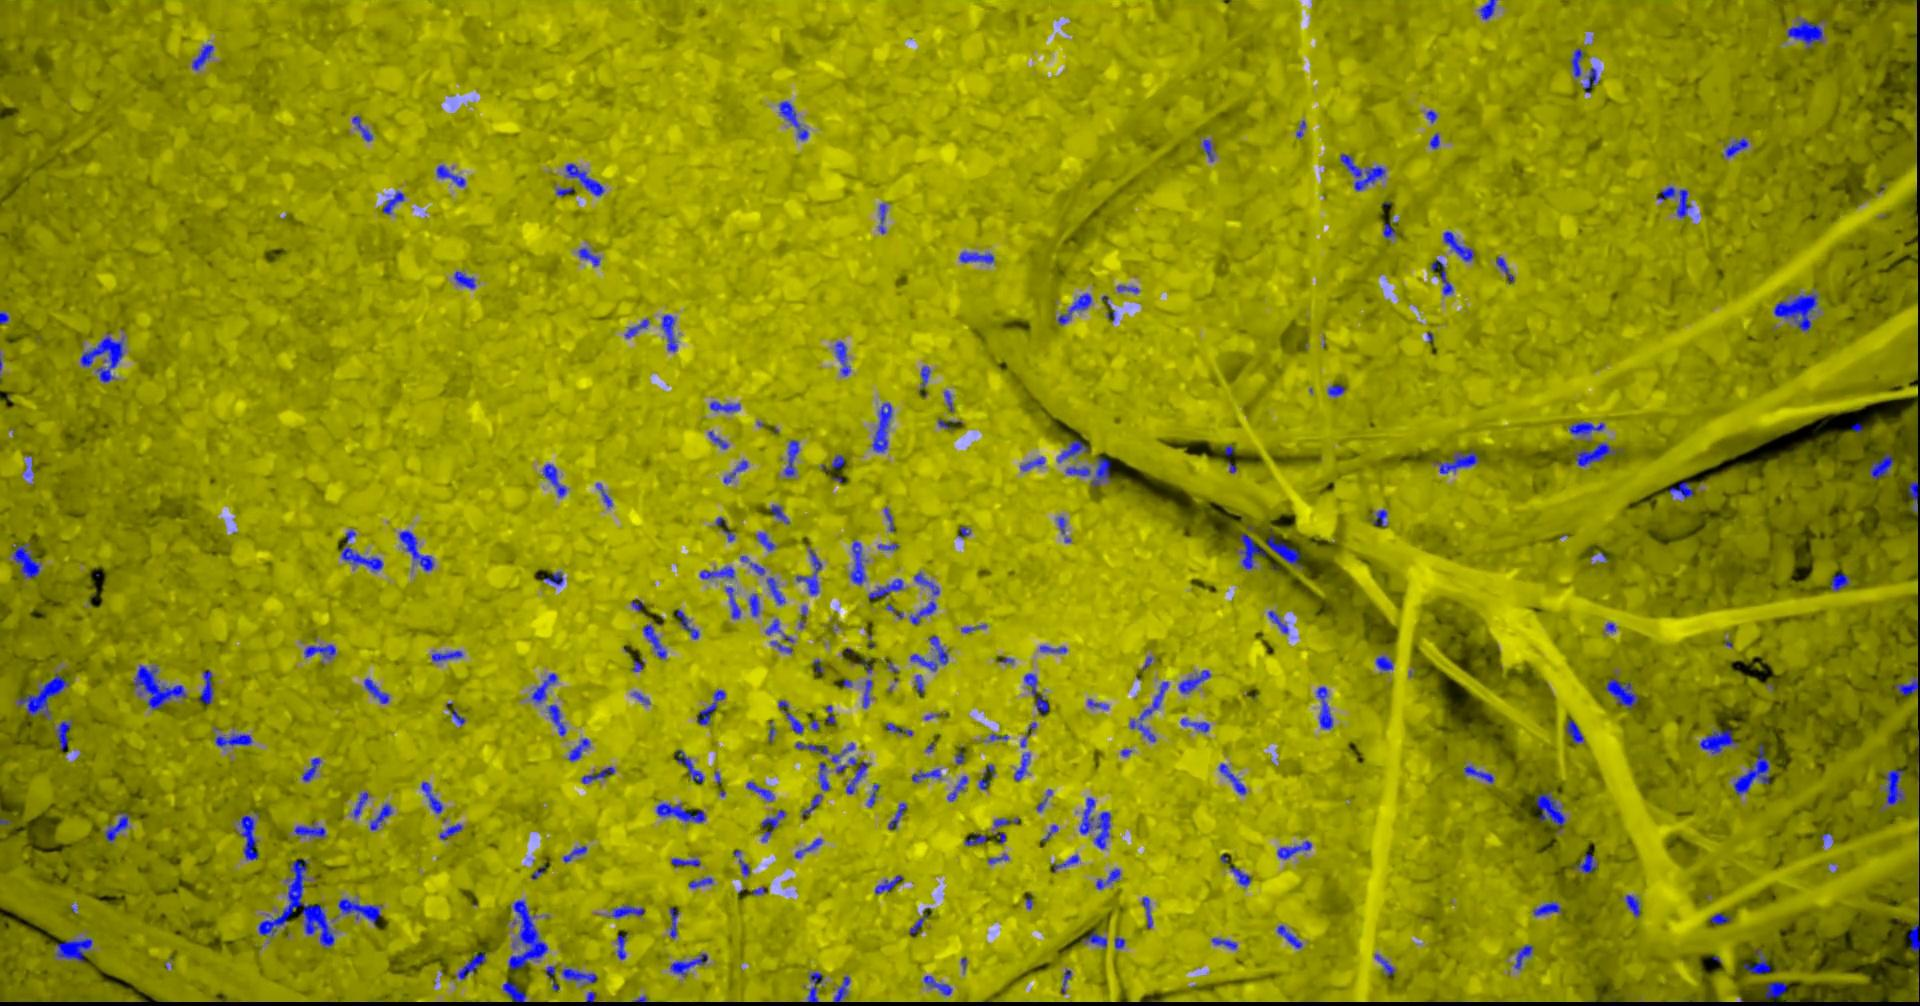ant: (1129, 681, 1168, 741), (133, 664, 185, 709), (17, 674, 69, 716), (80, 335, 123, 382), (1733, 743, 1769, 795), (342, 528, 382, 572), (1340, 152, 1385, 191), (1773, 293, 1817, 332), (1079, 796, 1110, 848), (399, 530, 433, 570), (910, 635, 947, 671), (565, 163, 603, 196), (337, 898, 381, 926), (795, 549, 822, 594), (1265, 535, 1302, 567), (1572, 442, 1620, 466), (1535, 791, 1564, 831), (1656, 185, 1691, 217), (778, 100, 808, 138), (1057, 292, 1091, 324), (1432, 450, 1478, 473), (11, 542, 41, 578), (696, 688, 725, 724), (1785, 19, 1822, 47), (655, 801, 705, 822), (1604, 678, 1638, 708), (872, 401, 891, 452), (1443, 231, 1474, 260), (676, 749, 703, 782), (55, 937, 91, 962), (237, 815, 258, 859), (1239, 533, 1265, 568), (669, 953, 707, 976), (1699, 729, 1735, 753), (1218, 763, 1246, 794), (530, 673, 557, 702), (643, 622, 665, 658), (844, 757, 867, 793), (759, 809, 785, 841), (778, 700, 803, 733), (1430, 259, 1453, 293), (457, 951, 485, 979), (542, 464, 566, 495), (1178, 669, 1210, 694), (830, 742, 855, 774), (1057, 439, 1090, 462), (869, 578, 902, 601), (104, 810, 128, 841), (1884, 768, 1905, 804), (1742, 949, 1770, 974), (676, 608, 698, 639), (1316, 686, 1332, 728), (1868, 452, 1893, 479), (850, 541, 865, 584), (363, 677, 389, 702), (422, 781, 442, 813), (909, 600, 936, 624), (436, 164, 465, 185), (1277, 840, 1310, 859), (1276, 923, 1302, 948), (190, 43, 213, 70), (1090, 457, 1110, 486), (723, 459, 747, 483), (913, 572, 938, 594), (370, 803, 391, 829), (908, 907, 930, 934), (745, 781, 773, 801), (547, 704, 565, 735), (662, 314, 677, 351), (350, 116, 372, 141), (724, 586, 740, 619), (582, 766, 615, 782), (1463, 765, 1493, 782), (794, 838, 822, 857), (923, 976, 951, 995), (834, 340, 850, 375), (1095, 868, 1119, 889), (502, 981, 526, 1002), (947, 775, 968, 800), (783, 439, 797, 476), (1568, 420, 1604, 434), (766, 577, 783, 605), (888, 801, 905, 829), (874, 875, 902, 893), (568, 738, 589, 761), (801, 793, 822, 817), (1722, 138, 1747, 158), (715, 516, 734, 541), (303, 644, 335, 659), (1893, 676, 1919, 695), (55, 720, 71, 749), (794, 741, 828, 754), (561, 968, 596, 982), (1495, 257, 1512, 283), (1514, 942, 1531, 969), (215, 733, 251, 746), (382, 191, 403, 213), (1267, 610, 1288, 633), (295, 822, 325, 837), (1374, 953, 1394, 976), (199, 669, 213, 702), (623, 318, 648, 337), (1564, 719, 1583, 743), (1053, 854, 1078, 871), (808, 970, 822, 1002), (733, 848, 749, 875), (833, 976, 850, 1002), (577, 246, 599, 265), (1573, 854, 1596, 873), (302, 757, 320, 781), (596, 481, 612, 507), (1020, 721, 1036, 747), (978, 763, 994, 789), (1081, 931, 1106, 948), (1229, 866, 1250, 887), (444, 702, 463, 724), (1570, 48, 1583, 77), (1180, 718, 1209, 732), (910, 768, 940, 782), (698, 567, 734, 578), (1013, 753, 1029, 780), (563, 845, 585, 862), (611, 904, 643, 917), (1669, 481, 1693, 498), (959, 251, 993, 263), (1531, 901, 1559, 915), (453, 271, 475, 288), (1764, 981, 1785, 998), (885, 721, 912, 735), (1583, 67, 1599, 91), (1907, 480, 1919, 512), (756, 531, 775, 550), (1907, 920, 1919, 951), (707, 431, 728, 448), (439, 823, 461, 840), (1018, 456, 1044, 470), (353, 793, 367, 818), (1478, 0, 1496, 19), (770, 506, 789, 523), (545, 965, 559, 989), (1142, 895, 1152, 929), (818, 761, 829, 790), (1625, 894, 1641, 916), (1101, 295, 1114, 320), (430, 650, 462, 661), (1830, 573, 1849, 589), (709, 401, 739, 412), (1023, 673, 1037, 695), (866, 784, 879, 807), (616, 934, 627, 959), (1211, 937, 1237, 949), (542, 572, 563, 586), (862, 680, 872, 708), (1034, 695, 1048, 715), (883, 507, 894, 531), (688, 876, 712, 888), (964, 832, 985, 845), (1369, 509, 1385, 526), (669, 907, 678, 937), (748, 593, 759, 616), (770, 640, 792, 652), (993, 817, 1018, 827), (856, 657, 872, 672), (670, 857, 698, 866), (1203, 138, 1213, 161), (764, 619, 780, 634), (1709, 912, 1730, 923), (1060, 969, 1070, 992), (1382, 221, 1396, 238), (1375, 655, 1392, 669), (1327, 384, 1345, 396), (877, 203, 885, 232), (919, 366, 930, 387), (1065, 466, 1090, 475), (1116, 285, 1139, 293), (1039, 645, 1065, 653), (830, 453, 844, 467), (943, 390, 952, 412), (1087, 699, 1109, 708), (555, 185, 573, 196), (825, 705, 836, 723), (914, 674, 923, 694), (1429, 132, 1439, 149), (877, 542, 898, 550), (1114, 936, 1124, 948)
